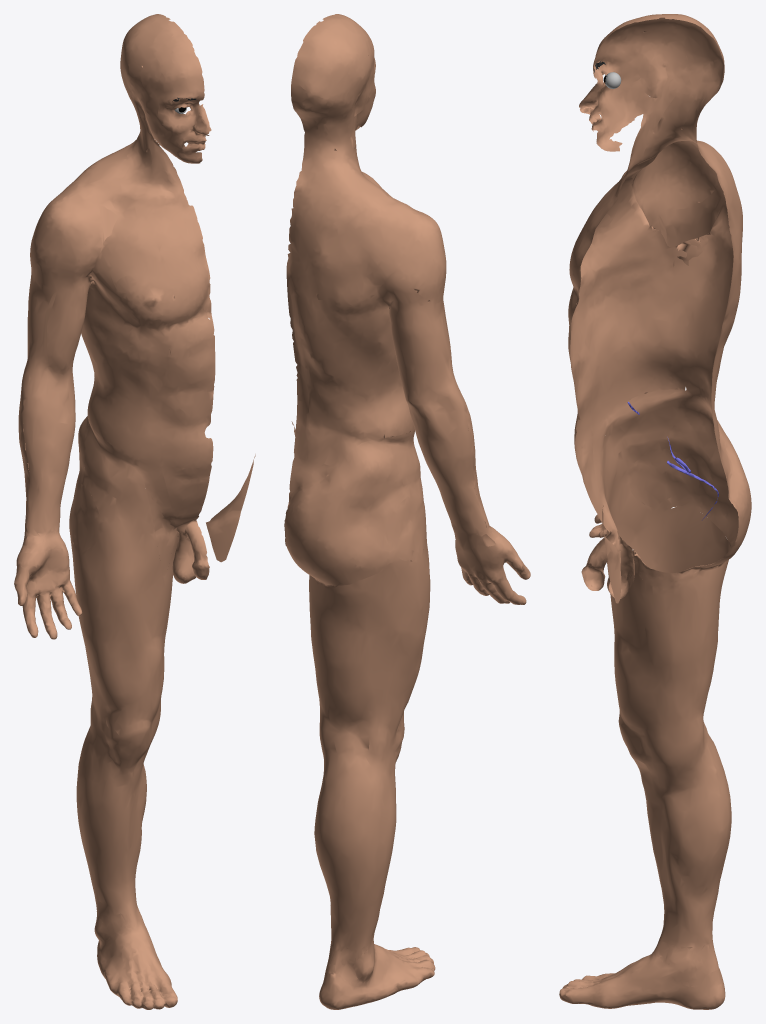
Rendered from atlas_skin.glb.
3 renders of one model, left to right at view 1: azimuth 30°, elevation 25°; view 2: azimuth 150°, elevation 25°; view 3: azimuth 270°, elevation 25°, orthographic. The views are drawn at different scales.
Parts seen in each view (by area): view 1: skin_envelope; view 2: skin_envelope; view 3: skin_envelope.
Boxes of the visible parts, <box> form: skin_envelope: <box>14,14,255,1009</box>; skin_envelope: <box>284,14,530,1009</box>; skin_envelope: <box>559,14,751,1009</box>.
Size of the model in its own units: 0.4461 by 1.71 by 0.2951.
